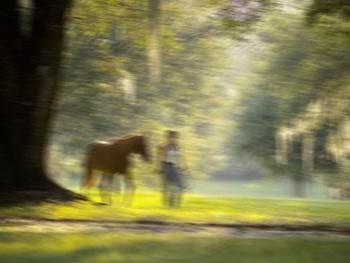horse: (81, 129, 152, 207)
